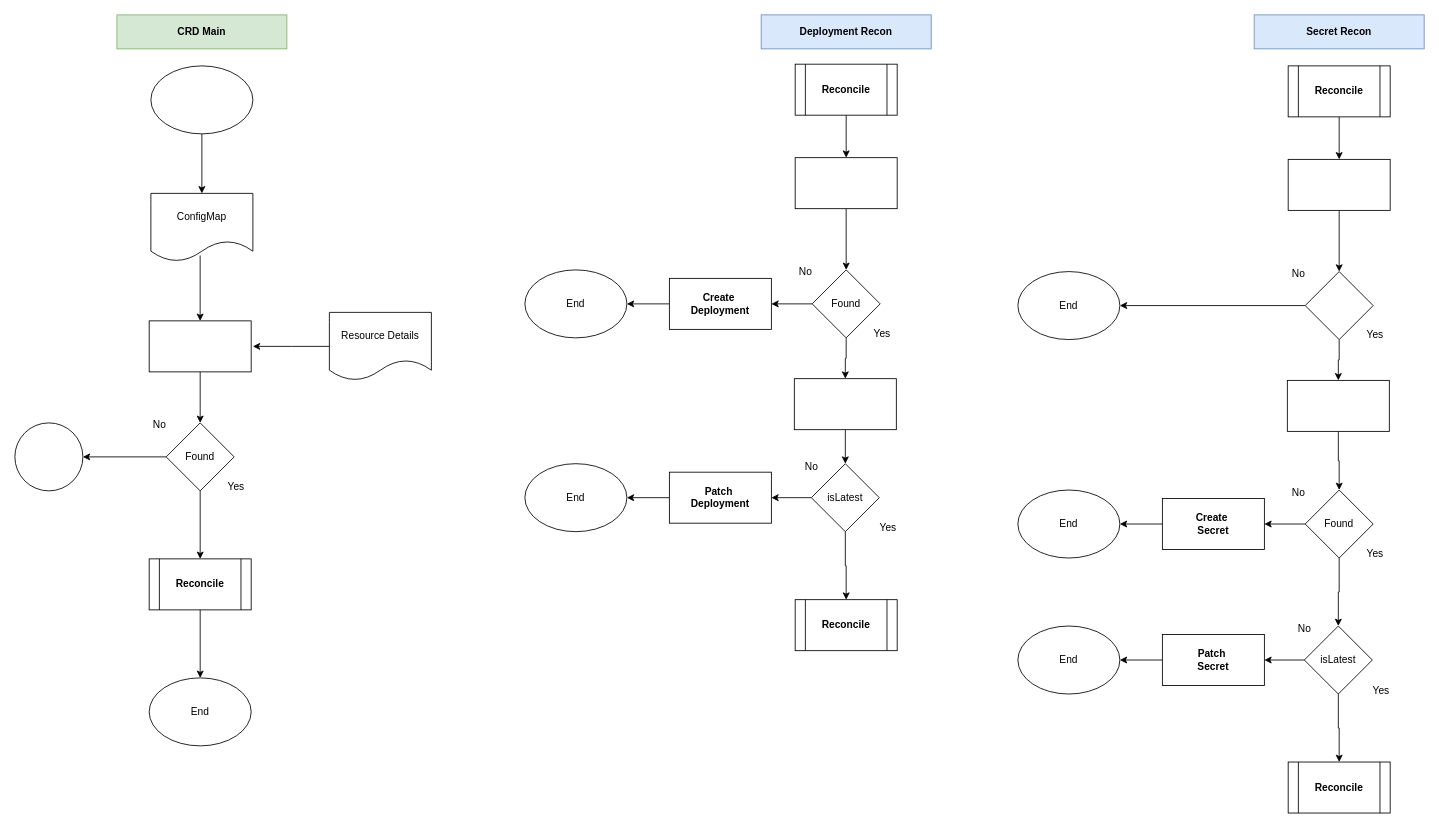
Some shapes in this 1439 by 828 pixel diagram are drawn without their labels. Each missing label, with the box of its shape:
Check Deployment: (793, 378, 896, 430)
Check Secret: (1286, 380, 1389, 431)
Get CRD Resource: (148, 320, 251, 372)
Get Deployment (namespaced): (794, 157, 897, 209)
Get Namespaces: (1287, 159, 1390, 210)
isExclude ?: (1304, 271, 1373, 340)
Start: (150, 65, 253, 134)
Stop: (14, 422, 83, 491)
